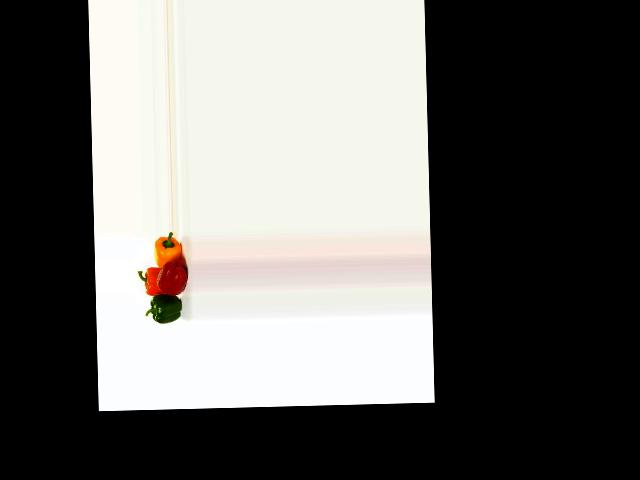bell_pepper: (147, 291, 187, 324)
